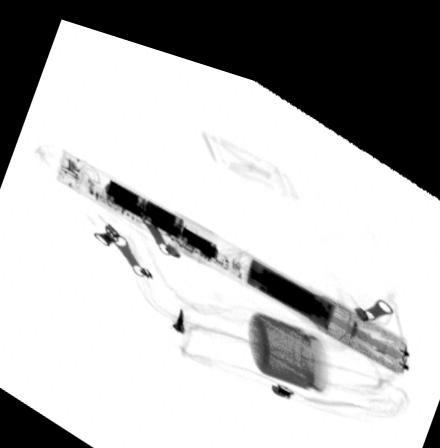Baton: (54, 143, 413, 353)
